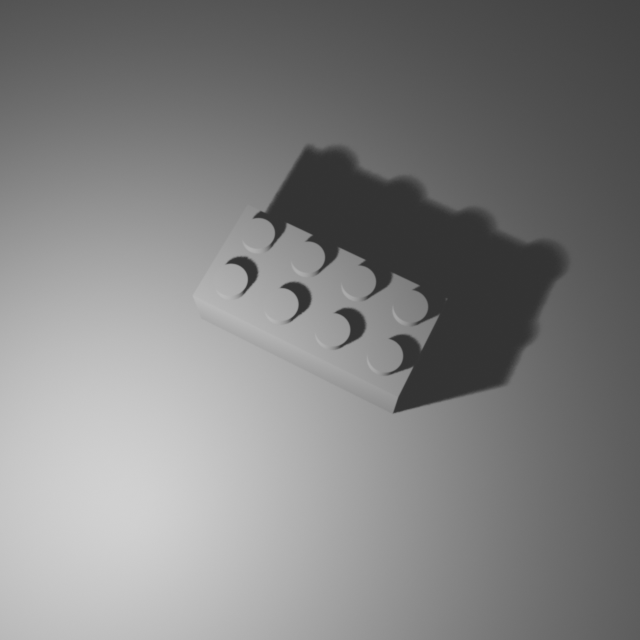lego_2x4: (191, 199, 449, 414)
